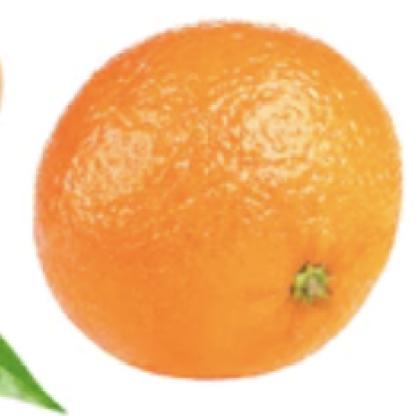fresh: (32, 18, 406, 383)
